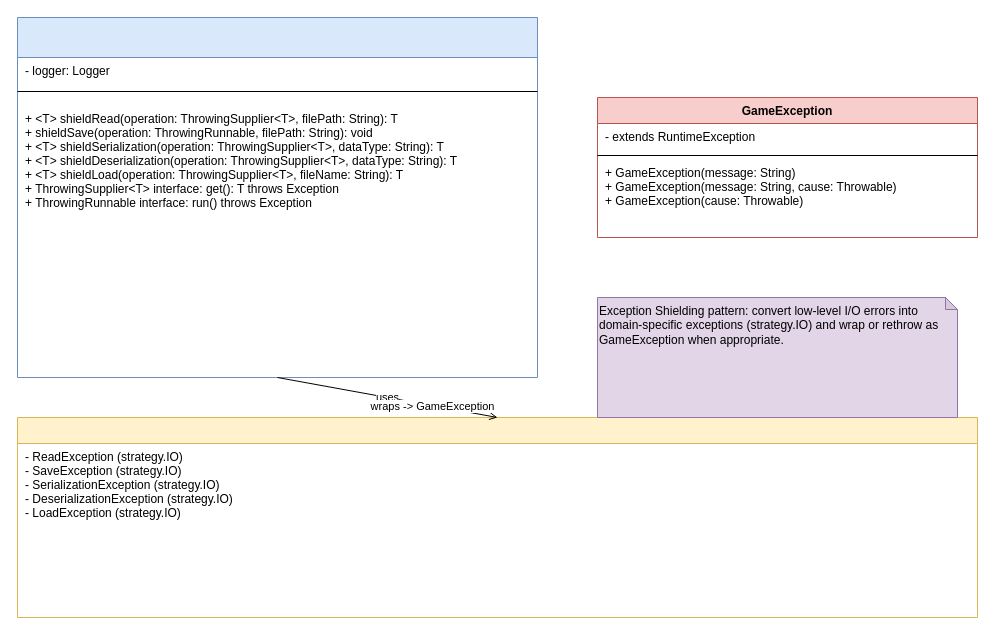
The diagram is 995 pixels wide and 635 high, and some of its shapes have lost their labels. Each missing label, with the box of its shape:
ExceptionShieldingLayer: (16, 16, 538, 378)
strategy.IO Exceptions: (16, 416, 978, 618)
